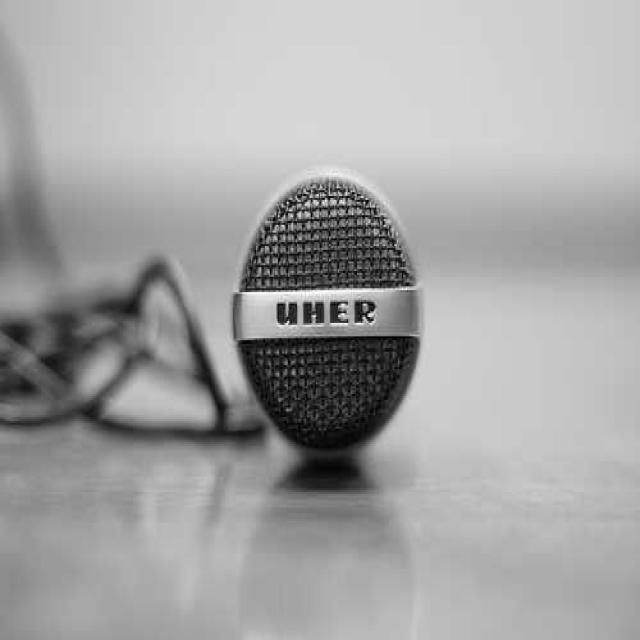microphone: (232, 165, 424, 454)
